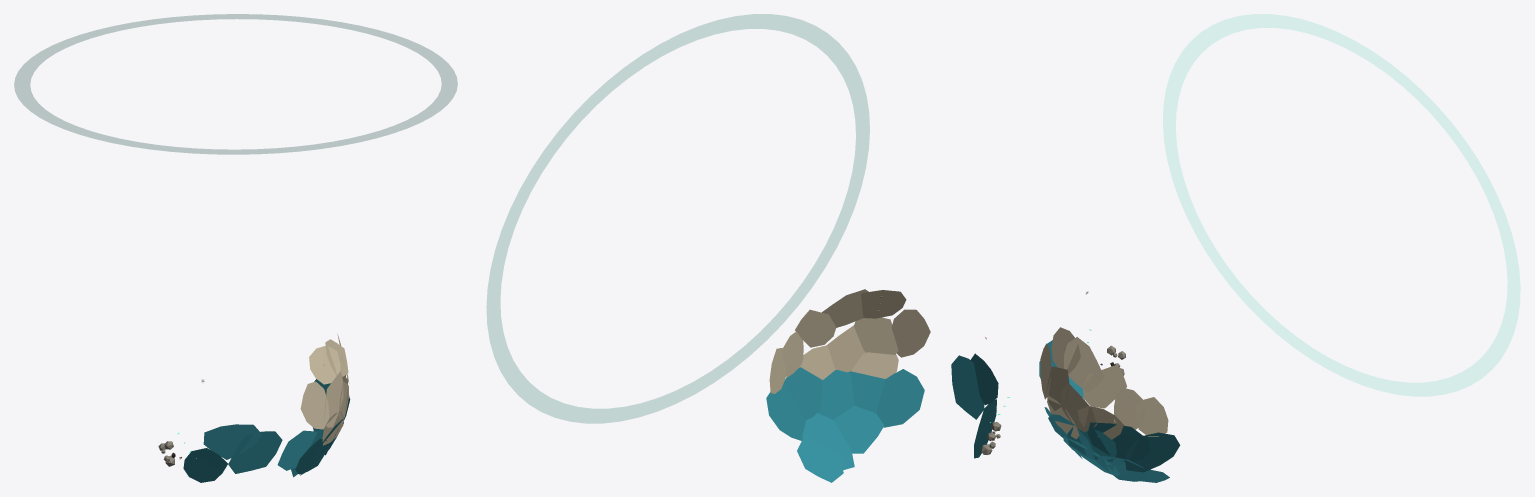
The model's file is startingCamp.glb.
The picture shows the model from 3 angles, left to right: view 1: azimuth 30°, elevation 25°; view 2: azimuth 150°, elevation 25°; view 3: azimuth 270°, elevation 25°; orthographic projection. The views are drawn at different scales.
Visible parts, largest first — view 1: n56, camp-flat-patch.019, camp-flat-patch.018, camp-flat-patch.020, camp-flat-patch.004, camp-flat-patch, camp-flat-patch.017, camp-flat-patch.003, camp-flat-patch.015; view 2: n56, camp-flat-patch.015, camp-flat-patch.016, camp-flat-patch.019, camp-flat-patch.004, camp-flat-patch.011, camp-flat-patch.017, camp-flat-patch.013, camp-flat-patch.014, camp-flat-patch.010, camp-flat-patch.003, camp-flat-patch.005 (+10 smaller); view 3: n56, camp-flat-patch.010, camp-flat-patch.013, camp-flat-patch.001, camp-flat-patch.002, camp-flat-patch.009, camp-flat-patch.006, camp-flat-patch.005, camp-flat-patch, camp-flat-patch.003, camp-flat-patch.007, camp-flat-patch.011 (+2 smaller).
Part boxes in pixels (x1=…): n56: x1=14, y1=14, x2=457, y2=154; camp-flat-patch.019: x1=228, y1=431, x2=282, y2=473; camp-flat-patch.018: x1=203, y1=424, x2=262, y2=459; camp-flat-patch.020: x1=183, y1=448, x2=227, y2=482; camp-flat-patch.004: x1=300, y1=381, x2=329, y2=429; camp-flat-patch: x1=309, y1=346, x2=340, y2=384; camp-flat-patch.017: x1=277, y1=430, x2=317, y2=470; camp-flat-patch.003: x1=324, y1=371, x2=343, y2=427; camp-flat-patch.015: x1=295, y1=439, x2=329, y2=474; n56: x1=486, y1=14, x2=869, y2=423; camp-flat-patch.015: x1=876, y1=369, x2=924, y2=427; camp-flat-patch.016: x1=833, y1=405, x2=884, y2=453; camp-flat-patch.019: x1=951, y1=355, x2=984, y2=419; camp-flat-patch.004: x1=891, y1=309, x2=930, y2=357; camp-flat-patch.011: x1=817, y1=370, x2=854, y2=419; camp-flat-patch.017: x1=797, y1=435, x2=843, y2=482; camp-flat-patch.013: x1=766, y1=386, x2=806, y2=440; camp-flat-patch.014: x1=802, y1=413, x2=854, y2=469; camp-flat-patch.010: x1=782, y1=367, x2=822, y2=419; camp-flat-patch.003: x1=854, y1=317, x2=898, y2=354; camp-flat-patch.005: x1=827, y1=325, x2=865, y2=372; n56: x1=1163, y1=14, x2=1520, y2=396; camp-flat-patch.010: x1=1087, y1=422, x2=1149, y2=461; camp-flat-patch.013: x1=1125, y1=432, x2=1180, y2=472; camp-flat-patch.001: x1=1064, y1=337, x2=1104, y2=392; camp-flat-patch.002: x1=1083, y1=364, x2=1126, y2=408; camp-flat-patch.009: x1=1136, y1=397, x2=1168, y2=436; camp-flat-patch.006: x1=1114, y1=387, x2=1145, y2=429; camp-flat-patch.005: x1=1060, y1=383, x2=1096, y2=432; camp-flat-patch: x1=1051, y1=327, x2=1080, y2=373; camp-flat-patch.003: x1=1046, y1=366, x2=1069, y2=410; camp-flat-patch.007: x1=1077, y1=406, x2=1123, y2=439; camp-flat-patch.011: x1=1067, y1=426, x2=1116, y2=461.
Size of the model in its own units: 157 by 179 by 177.
